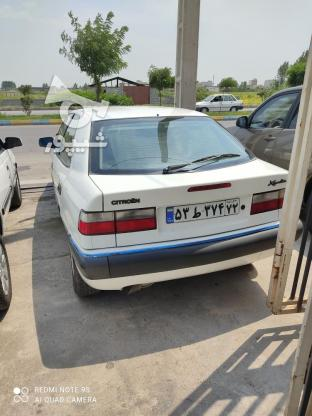car: (164, 197, 240, 224)
